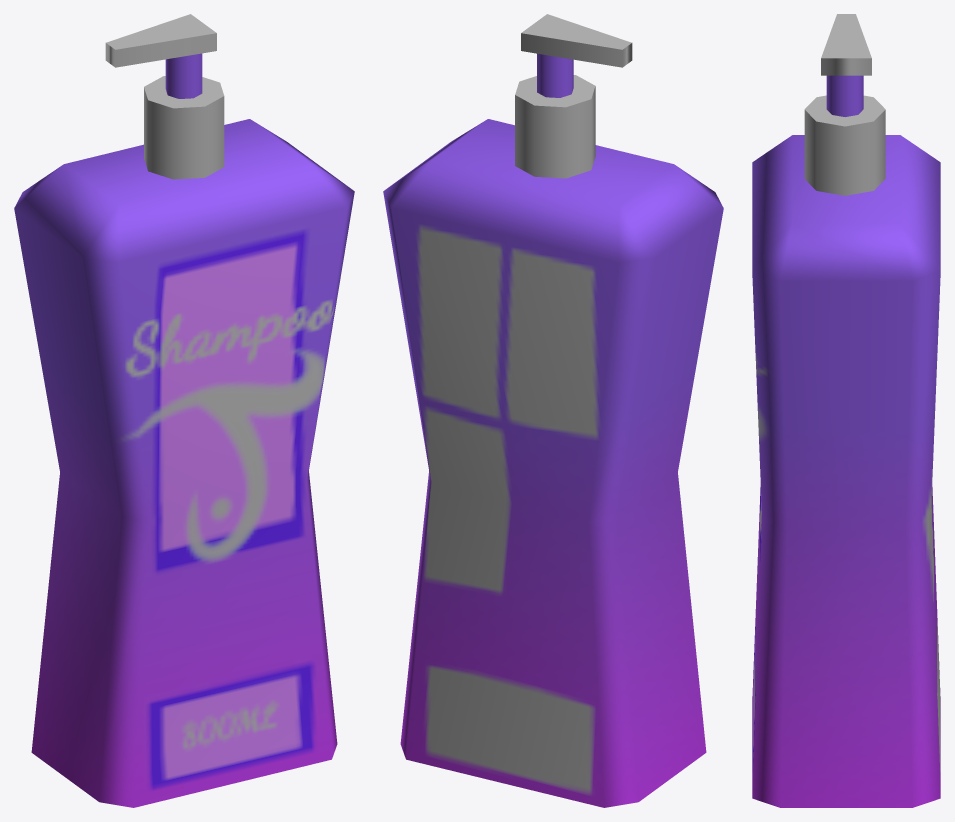
Rendered from Cleaners_09.fbx.
3 renders of one model, left to right at view 1: azimuth 30°, elevation 25°; view 2: azimuth 150°, elevation 25°; view 3: azimuth 270°, elevation 25°, orthographic. The views are drawn at different scales.
Parts seen in each view (by area): view 1: Cleaners_09; view 2: Cleaners_09; view 3: Cleaners_09.
Part boxes in pixels (bbox=[...]): Cleaners_09: bbox=[14, 14, 354, 807]; Cleaners_09: bbox=[383, 14, 723, 807]; Cleaners_09: bbox=[752, 14, 940, 807].
Size of the model in its own units: 12.54 by 31.62 by 7.7.
